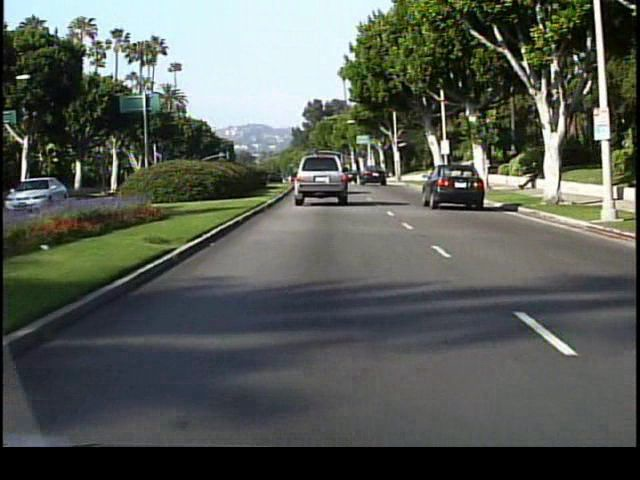person: (519, 159, 542, 195)
